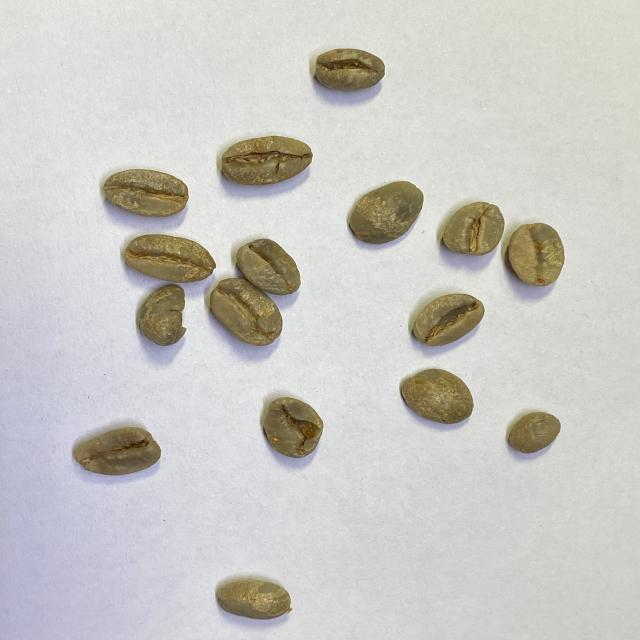bad: (260, 396, 326, 459), (136, 284, 187, 347)
good: (346, 179, 426, 248), (208, 281, 285, 346), (221, 136, 314, 187), (71, 425, 163, 475), (408, 293, 487, 350), (103, 169, 190, 220), (400, 367, 475, 425), (126, 234, 216, 282), (507, 222, 565, 288), (238, 238, 304, 295), (215, 572, 293, 620), (444, 202, 505, 257), (313, 50, 386, 94), (506, 409, 562, 456)
